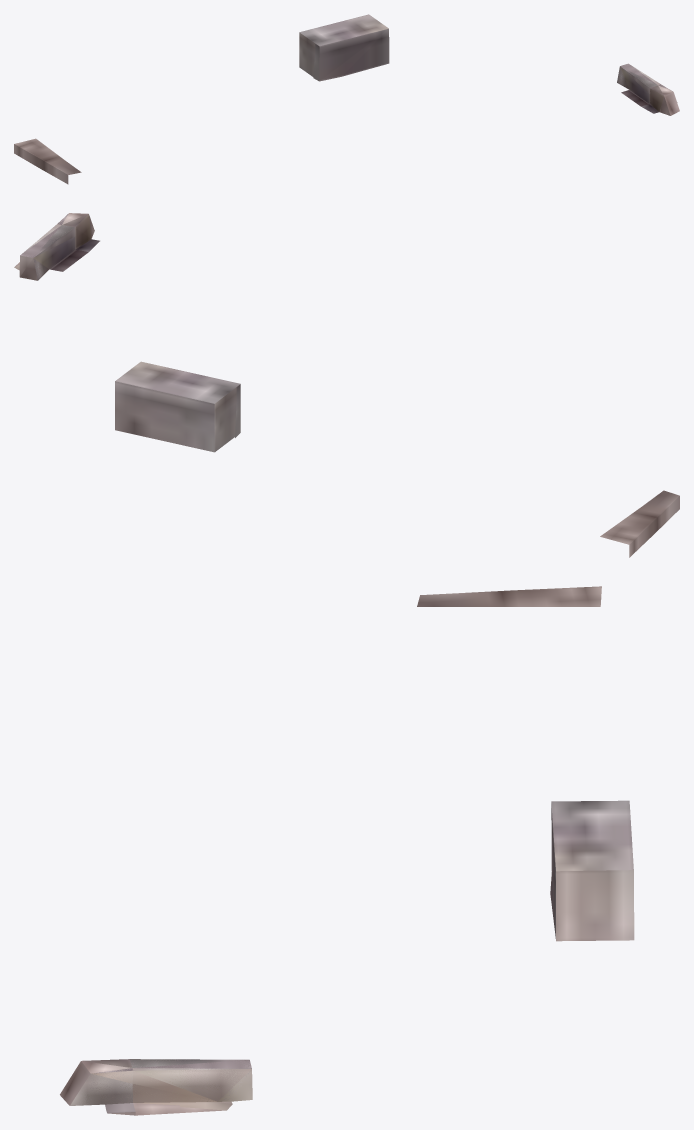
3 renders of one model, top to bottom at view 1: azimuth 30°, elevation 25°; view 2: azimuth 150°, elevation 25°; view 3: azimuth 270°, elevation 25°, orthographic. The views are drawn at different scales.
Parts seen in each view (by area): view 1: Mesh_0; view 2: Mesh_0; view 3: Mesh_0.
Part boxes in pixels (box(x1,y1,x2,y2)): Mesh_0: box(14, 14, 679, 184); Mesh_0: box(14, 213, 679, 557); Mesh_0: box(60, 586, 634, 1115).
Size of the model in its own units: 438 by 35.11 by 201.
1 material, 1 textured.
